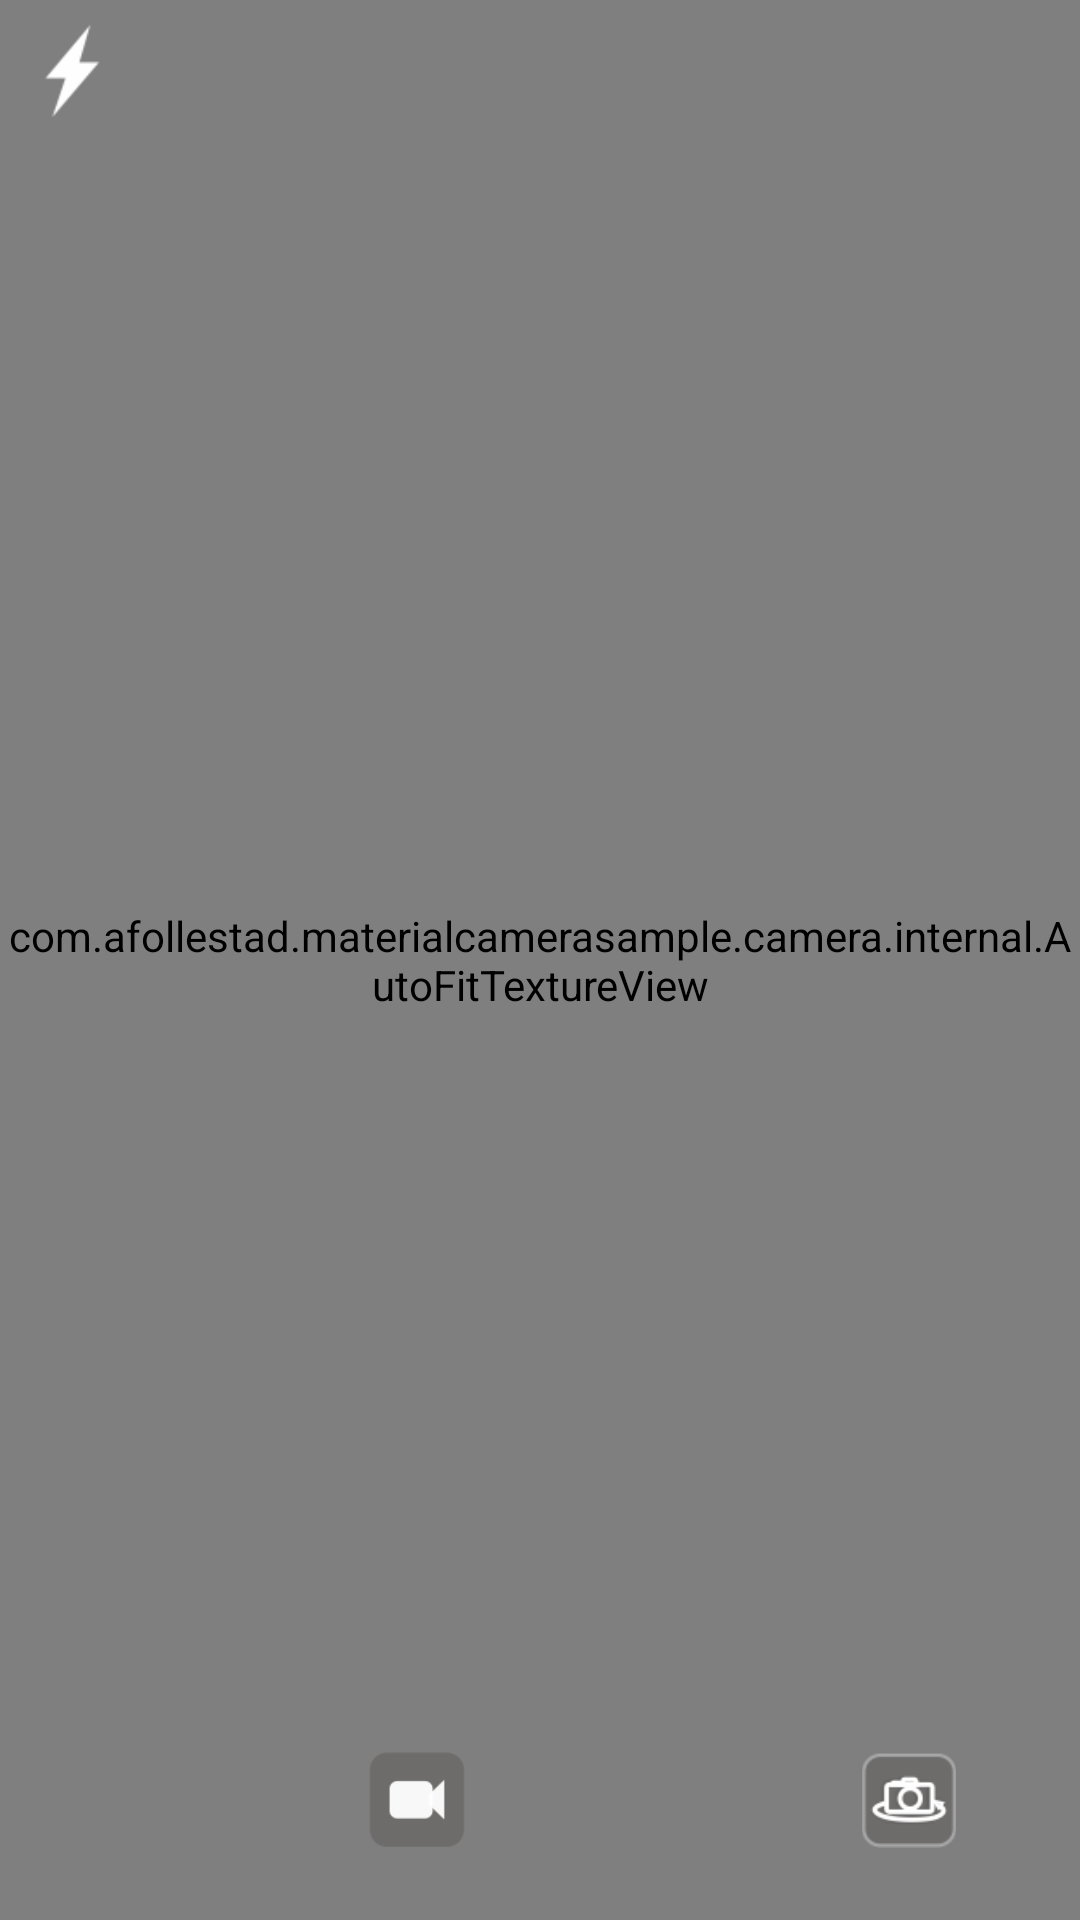

Where icons sit on this 1080x1920 app screen, as (x1, y1, x2, y2):
exchange: (862, 1753, 956, 1848)
flash on: (46, 26, 99, 116)
video: (389, 1780, 445, 1819)
